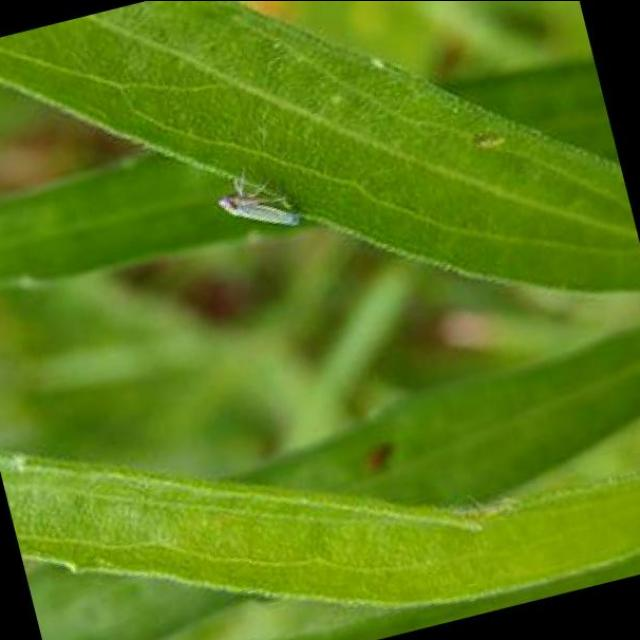green leaf hopper: (218, 176, 301, 225)
